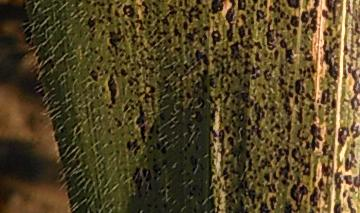tarspot: (106, 27, 124, 56), (135, 103, 147, 145), (224, 1, 236, 43), (157, 3, 177, 27), (194, 69, 211, 93), (106, 72, 118, 105), (131, 166, 143, 199), (124, 137, 142, 157), (193, 49, 211, 69), (186, 4, 203, 23), (239, 89, 255, 109), (142, 93, 156, 111), (157, 84, 170, 103), (141, 79, 157, 94), (183, 121, 195, 141), (183, 27, 200, 41), (254, 9, 268, 25), (221, 83, 231, 105), (207, 103, 218, 123), (120, 4, 135, 18), (210, 1, 225, 15), (210, 30, 222, 47), (188, 154, 198, 174), (171, 23, 183, 39), (207, 73, 217, 90), (150, 162, 162, 176), (267, 1, 281, 13), (236, 25, 246, 40), (161, 142, 173, 154), (283, 1, 301, 9), (135, 18, 146, 31), (127, 76, 141, 86), (194, 132, 201, 152), (129, 30, 138, 45), (135, 35, 144, 50), (88, 70, 100, 81), (192, 110, 203, 122), (196, 96, 206, 109), (220, 54, 233, 64), (74, 124, 83, 138), (118, 67, 129, 78), (146, 28, 157, 39), (235, 1, 247, 11), (224, 62, 232, 77), (110, 65, 119, 78), (87, 16, 96, 28), (140, 2, 149, 14), (113, 116, 122, 128), (157, 28, 169, 37), (148, 120, 155, 135), (212, 47, 221, 58), (205, 93, 214, 104), (144, 168, 151, 182), (122, 27, 130, 39), (158, 137, 171, 144), (105, 15, 114, 25), (126, 78, 135, 88), (152, 41, 162, 50), (121, 102, 130, 112), (158, 111, 166, 122), (249, 1, 257, 12), (239, 13, 247, 24), (218, 63, 226, 74), (140, 166, 147, 178), (213, 92, 222, 101), (128, 19, 136, 29), (178, 7, 186, 17), (197, 39, 207, 47), (197, 161, 205, 171), (210, 57, 220, 65), (219, 76, 224, 92), (106, 2, 113, 13), (122, 174, 129, 185), (140, 60, 147, 71), (183, 45, 190, 56), (245, 27, 254, 35), (213, 69, 221, 78), (181, 20, 188, 30), (146, 39, 156, 46), (134, 90, 144, 97), (169, 109, 176, 119), (248, 98, 255, 108), (137, 50, 143, 61), (160, 158, 168, 166), (155, 9, 163, 17), (184, 91, 192, 99), (201, 46, 209, 54), (231, 89, 239, 97), (112, 10, 121, 17), (158, 131, 167, 138), (148, 143, 155, 152), (154, 142, 161, 151), (145, 54, 154, 61), (177, 74, 186, 81), (177, 92, 184, 101), (167, 121, 176, 128), (146, 181, 152, 191), (96, 54, 103, 62), (65, 91, 72, 99), (58, 126, 65, 134), (123, 54, 131, 61), (142, 46, 149, 54), (173, 45, 181, 52), (200, 32, 207, 40), (223, 105, 231, 112), (95, 1, 104, 7), (150, 1, 159, 7), (130, 52, 136, 61), (135, 61, 141, 70), (170, 80, 179, 86), (221, 46, 230, 52), (97, 18, 104, 25), (78, 146, 85, 153), (105, 45, 112, 52), (74, 158, 81, 165), (155, 35, 162, 42), (162, 46, 169, 53), (177, 1, 184, 8), (98, 174, 105, 181), (148, 66, 155, 73), (163, 78, 170, 85), (178, 86, 185, 93), (190, 184, 197, 191), (99, 29, 105, 37), (79, 46, 85, 54), (106, 126, 112, 134), (103, 67, 109, 75), (136, 207, 144, 213), (127, 61, 135, 67), (166, 36, 172, 44), (161, 56, 169, 62), (202, 24, 210, 30), (185, 140, 191, 148), (171, 85, 179, 91), (187, 191, 193, 199), (262, 1, 268, 9), (275, 5, 281, 13), (229, 97, 234, 106), (87, 36, 94, 42), (99, 86, 105, 93), (48, 62, 55, 68), (64, 42, 71, 48), (68, 52, 75, 58), (96, 202, 102, 209), (108, 203, 115, 209), (152, 175, 159, 181), (161, 189, 167, 196), (129, 66, 136, 72), (145, 19, 152, 25), (183, 1, 189, 8), (129, 103, 135, 110), (122, 120, 128, 127), (154, 122, 160, 129), (153, 128, 159, 135), (119, 131, 126, 137), (161, 74, 168, 80), (171, 71, 178, 77), (175, 62, 182, 68), (189, 77, 196, 83), (188, 83, 194, 90), (194, 126, 201, 132), (201, 151, 208, 157), (244, 9, 251, 15), (256, 25, 262, 32), (257, 3, 264, 9), (228, 78, 235, 84), (113, 22, 121, 27), (70, 66, 78, 71), (172, 92, 177, 100), (187, 101, 192, 109), (85, 77, 91, 83), (107, 139, 113, 145), (114, 148, 120, 154), (144, 157, 150, 163), (161, 202, 167, 208), (128, 88, 134, 94), (123, 19, 129, 25), (99, 159, 105, 165), (98, 154, 104, 160), (126, 115, 132, 121), (150, 111, 156, 117), (204, 17, 210, 23), (209, 45, 215, 51), (169, 63, 175, 69), (189, 56, 195, 62), (178, 81, 184, 87), (249, 19, 255, 25), (223, 77, 229, 83), (95, 65, 102, 70), (89, 27, 96, 32), (134, 71, 141, 76), (122, 59, 127, 66), (146, 14, 153, 19), (126, 97, 133, 102), (133, 100, 138, 107), (188, 51, 193, 58), (186, 183, 191, 190), (144, 72, 148, 80), (70, 77, 76, 82), (116, 3, 122, 8), (136, 3, 142, 8), (90, 32, 96, 37), (93, 49, 99, 54), (87, 46, 93, 51), (83, 53, 89, 58), (94, 94, 99, 100), (60, 51, 66, 56), (64, 88, 70, 93), (94, 152, 99, 158), (106, 110, 112, 115), (107, 103, 113, 108), (106, 58, 111, 64), (110, 52, 115, 58), (129, 132, 135, 137), (141, 153, 146, 159), (68, 64, 74, 69), (83, 176, 88, 182), (76, 106, 82, 111), (146, 202, 152, 207), (151, 156, 157, 161), (165, 184, 170, 190), (158, 185, 164, 190), (116, 62, 122, 67), (142, 13, 147, 19), (146, 29, 151, 35), (182, 40, 188, 45), (136, 98, 141, 104), (147, 134, 152, 140), (201, 3, 206, 9), (198, 22, 204, 27), (204, 12, 210, 17), (209, 15, 215, 20), (183, 154, 188, 160), (98, 71, 103, 76), (134, 13, 139, 18), (67, 107, 72, 112), (99, 208, 104, 213), (77, 99, 82, 104), (152, 203, 157, 208), (145, 24, 150, 29), (154, 6, 159, 11), (151, 9, 156, 14), (154, 18, 159, 23), (97, 169, 102, 174), (129, 111, 134, 116), (206, 7, 211, 12), (173, 57, 178, 62), (189, 111, 194, 116), (249, 15, 254, 20), (243, 23, 248, 28), (90, 10, 96, 14), (92, 2, 96, 8), (111, 58, 115, 64), (154, 56, 158, 62), (194, 1, 202, 4), (86, 66, 90, 71), (100, 14, 105, 18), (98, 92, 102, 97), (104, 102, 108, 107), (118, 47, 122, 52), (121, 48, 126, 52), (127, 28, 132, 32), (158, 55, 163, 59), (85, 1, 91, 4), (114, 1, 120, 4), (183, 145, 186, 151), (134, 87, 138, 91), (130, 1, 136, 3)
